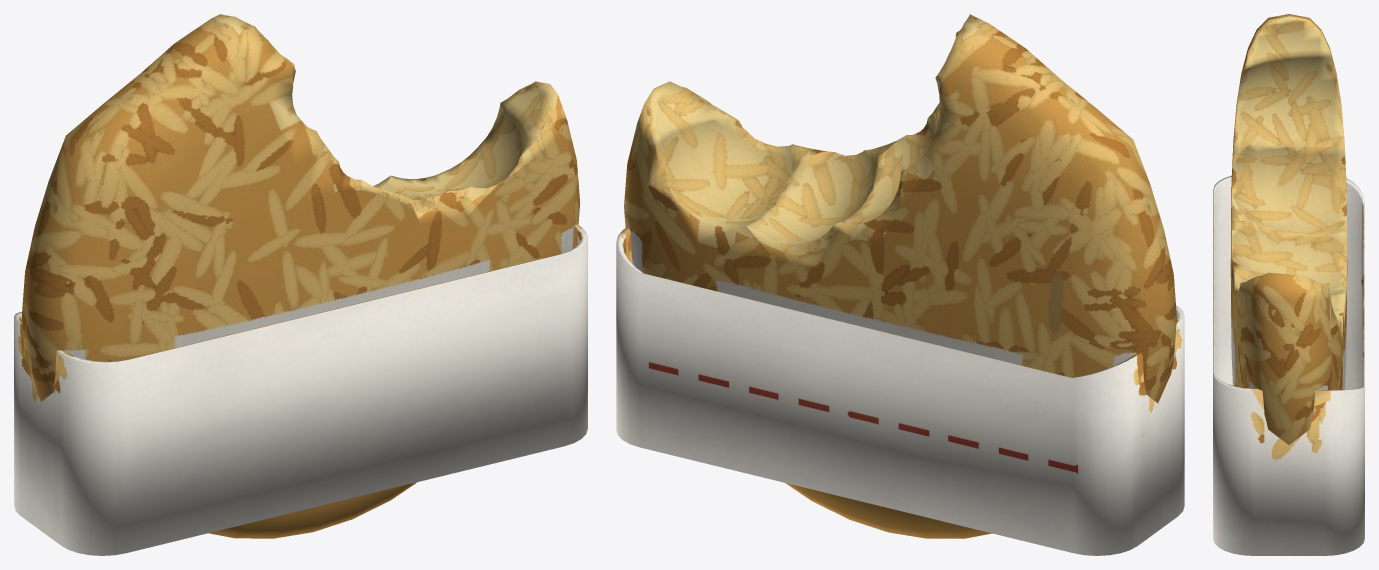
The model's file is hashbrown_b1.glb.
3 views of the same model, side by side, from view 1: azimuth 30°, elevation 25°; view 2: azimuth 150°, elevation 25°; view 3: azimuth 270°, elevation 25° (orthographic). The views are drawn at different scales.
Visible parts, largest first — view 1: prop_hashbrown_b1_felt; view 2: prop_hashbrown_b1_felt; view 3: prop_hashbrown_b1_felt.
Boxes of the visible parts, <box> form: prop_hashbrown_b1_felt: <box>14,14,587,555</box>; prop_hashbrown_b1_felt: <box>616,14,1184,555</box>; prop_hashbrown_b1_felt: <box>1213,14,1364,555</box>.
Bounding box in the file's own units: 0.1597 × 0.1481 × 0.045.
Materials: 1 (1 with a texture image).
